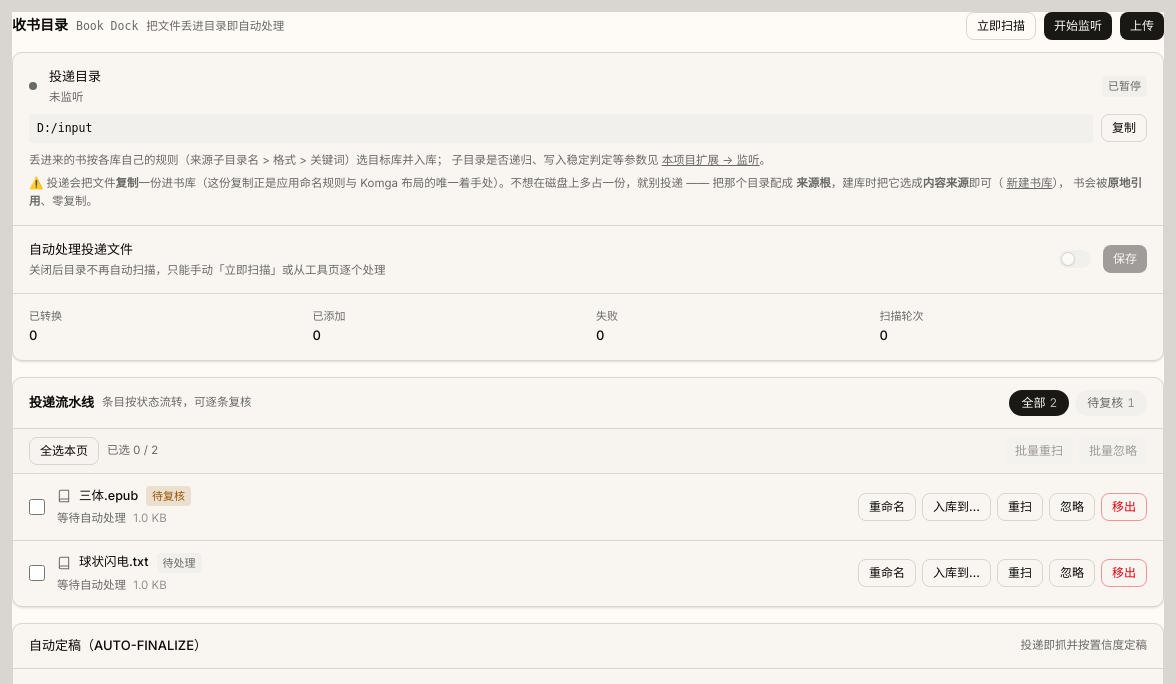
BookDockPage（第 65 期 3/5） › 重载后把已不在列表里的 id 从选择里摘掉
Click the checkbox named "选择 三体.epub" at coordinates (37, 507), box x1=29 y1=499 x2=45 y2=515
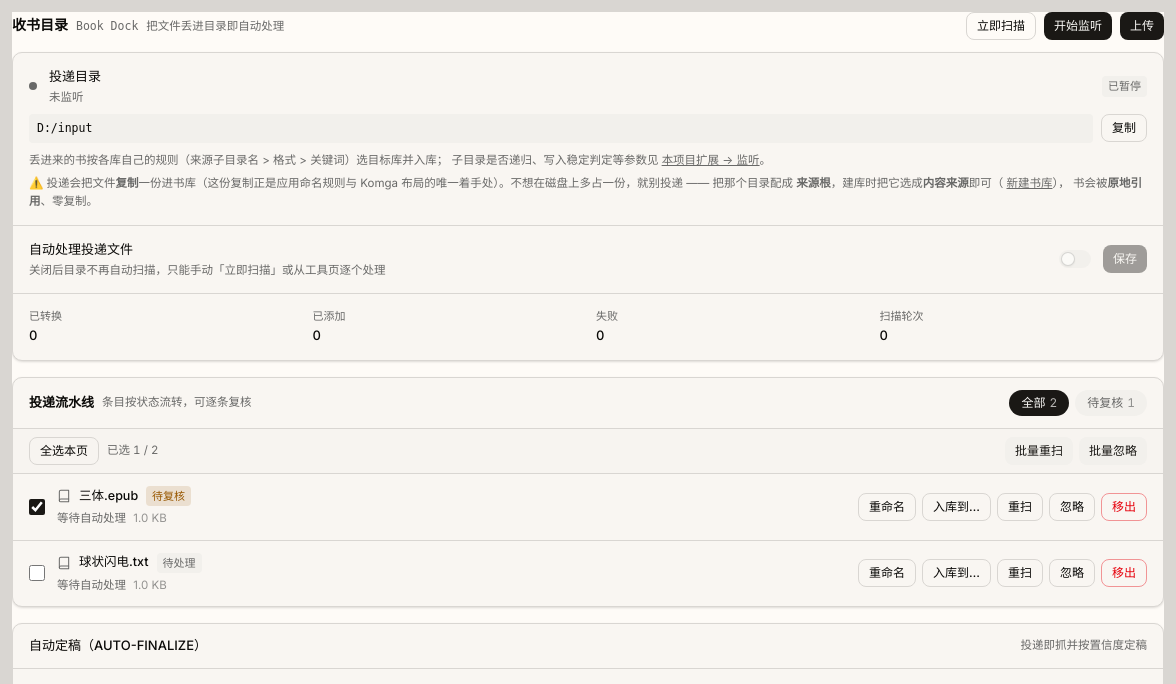
Now the text "已选 1 / 2" is shown, box x1=107 y1=442 x2=158 y2=460
Click the button "重扫" in the row of "三体.epub" at coordinates (1020, 507), box x1=997 y1=493 x2=1043 y2=521
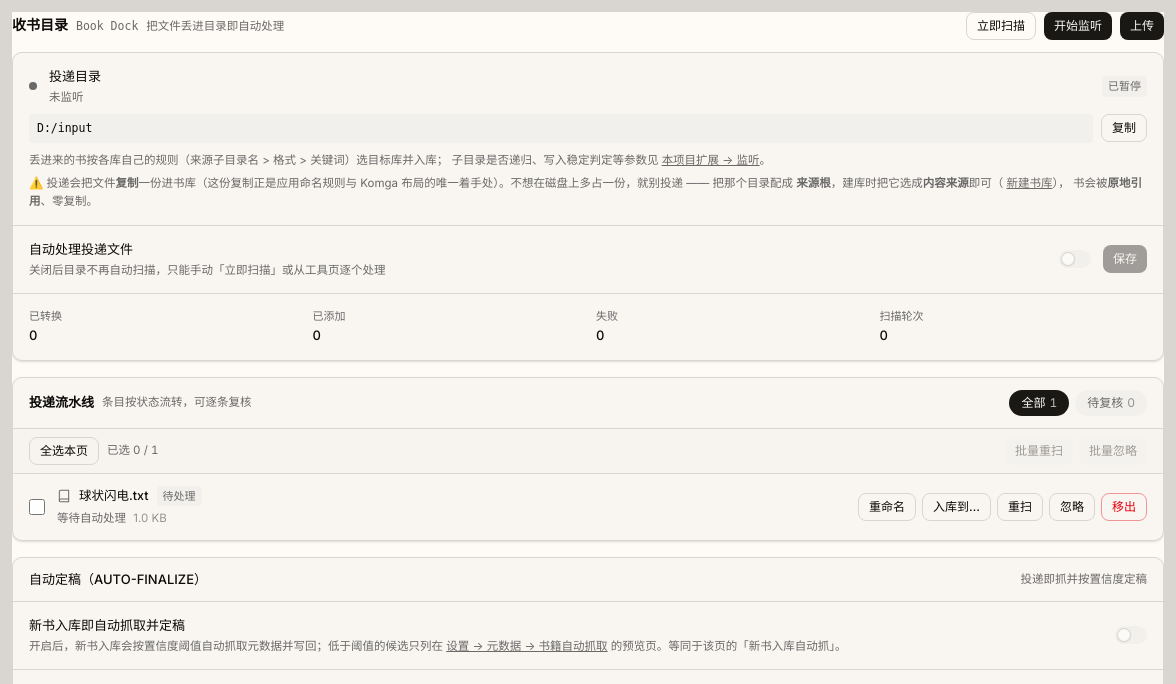
Click the button "重扫" at coordinates (1020, 507), box x1=997 y1=493 x2=1043 y2=521
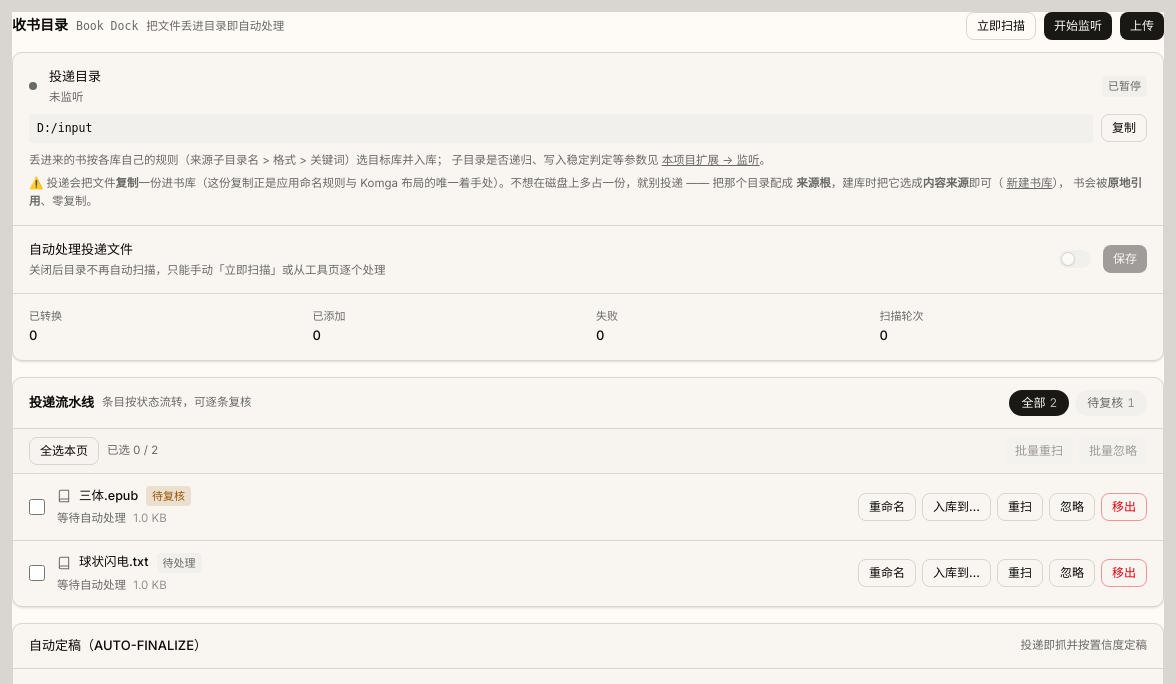
Now the text "已选 0 / 2" is shown, box x1=107 y1=442 x2=158 y2=460
